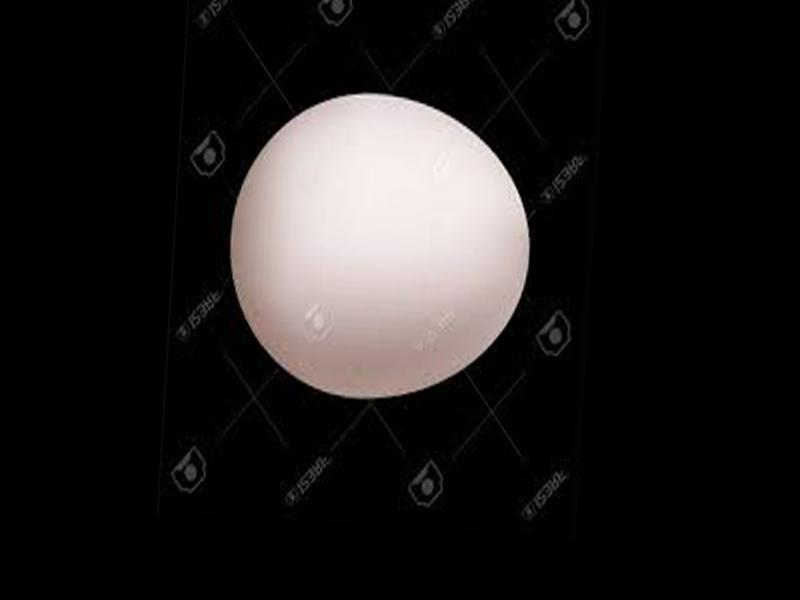Eggs: (223, 87, 536, 403)
